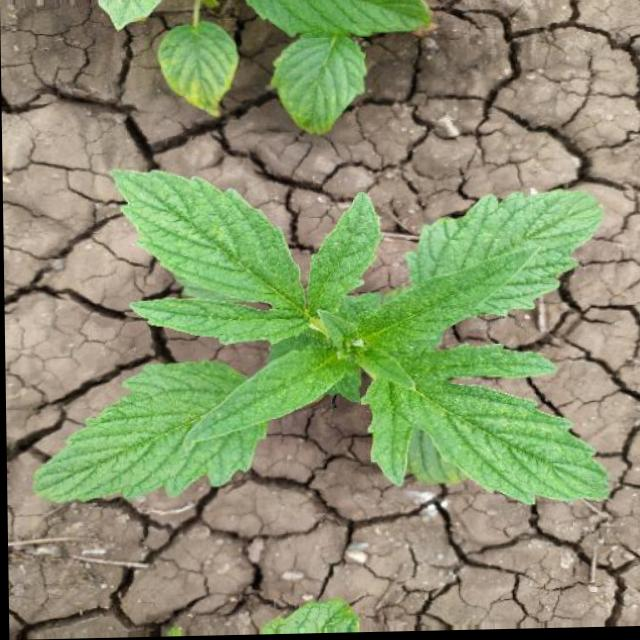crop: (33, 139, 633, 555)
